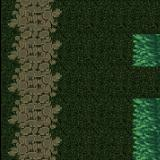Slow: (132, 98, 160, 160), (132, 34, 160, 66)
